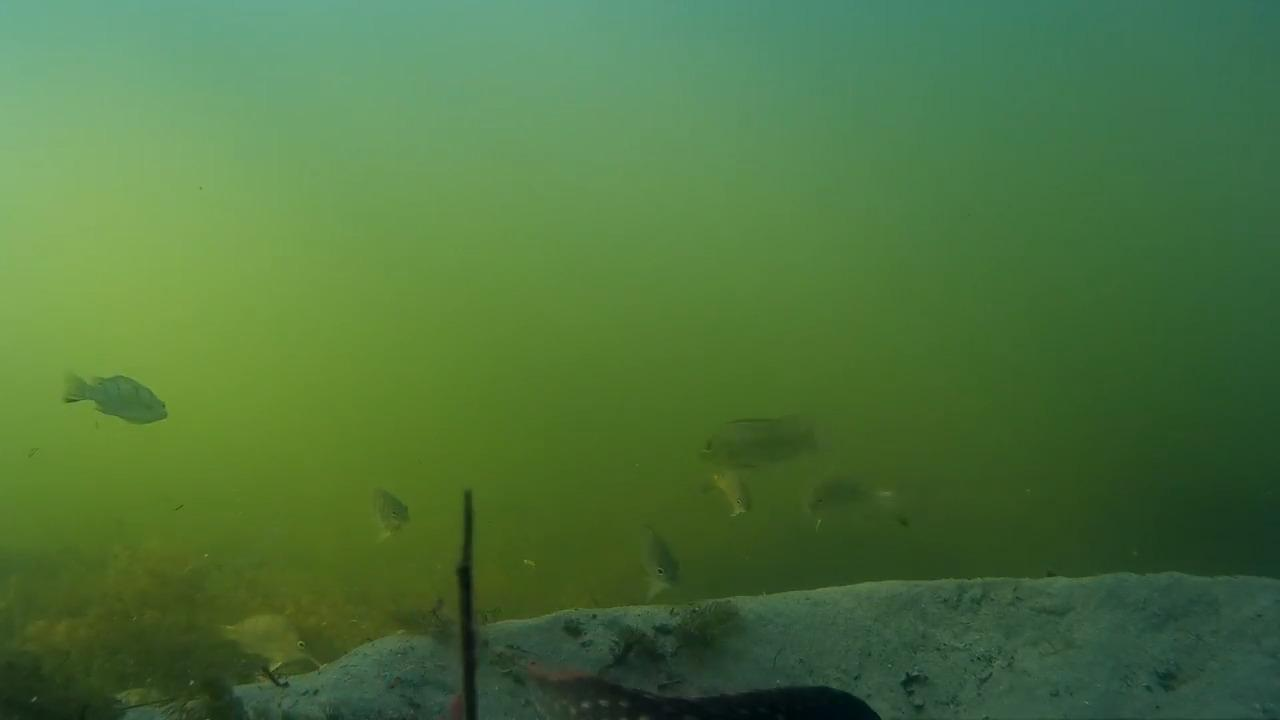Tilapia: (417, 622, 892, 720), (57, 366, 177, 458), (689, 406, 816, 478), (194, 600, 309, 676), (620, 518, 701, 608), (692, 462, 769, 542), (802, 480, 921, 528), (360, 482, 423, 554)
